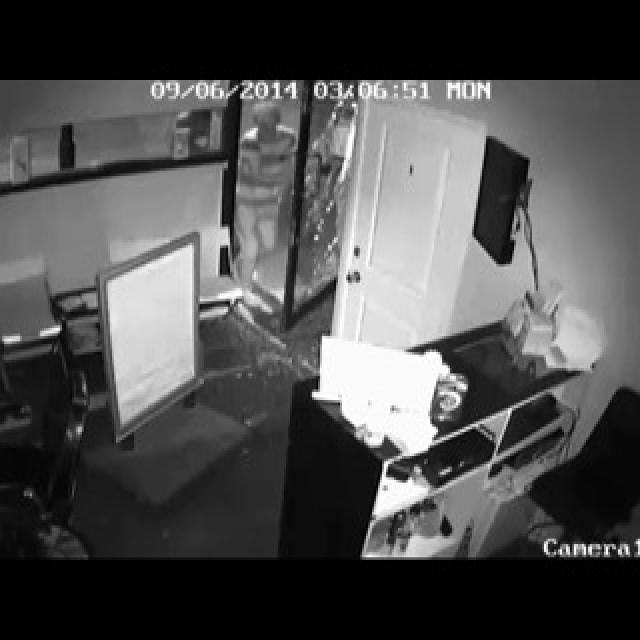burglary: (236, 110, 355, 346)
